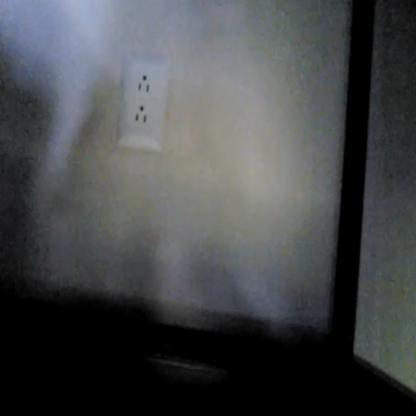OUTLET: (115, 51, 170, 152)
